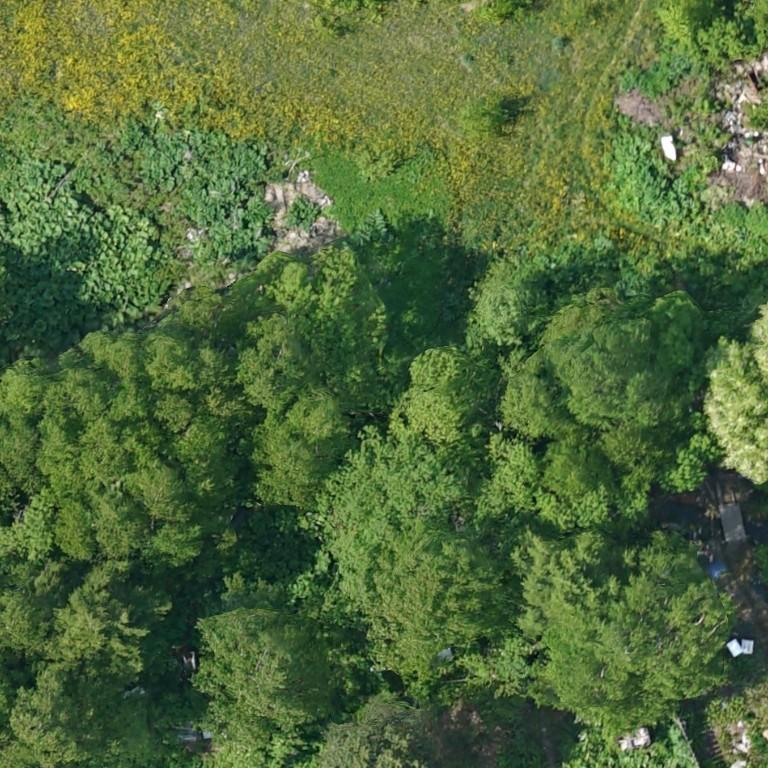hogweed: (110, 118, 284, 279), (355, 210, 394, 247), (287, 194, 320, 232)
